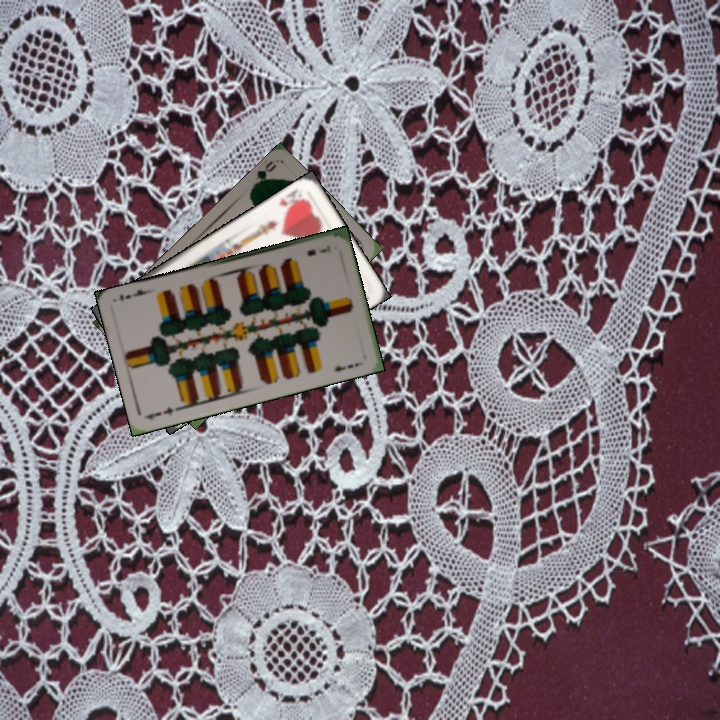E7: (143, 403, 183, 422), (303, 241, 333, 259)
GO: (248, 157, 279, 192)
HK: (276, 185, 307, 213)
